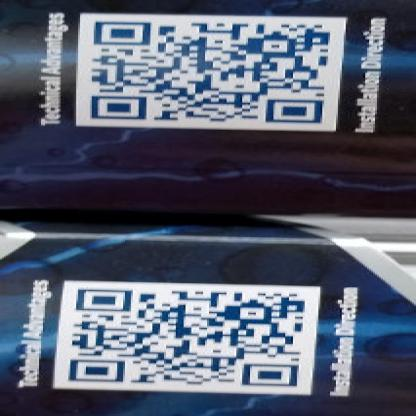qr: (83, 16, 332, 127), (67, 286, 307, 391)
